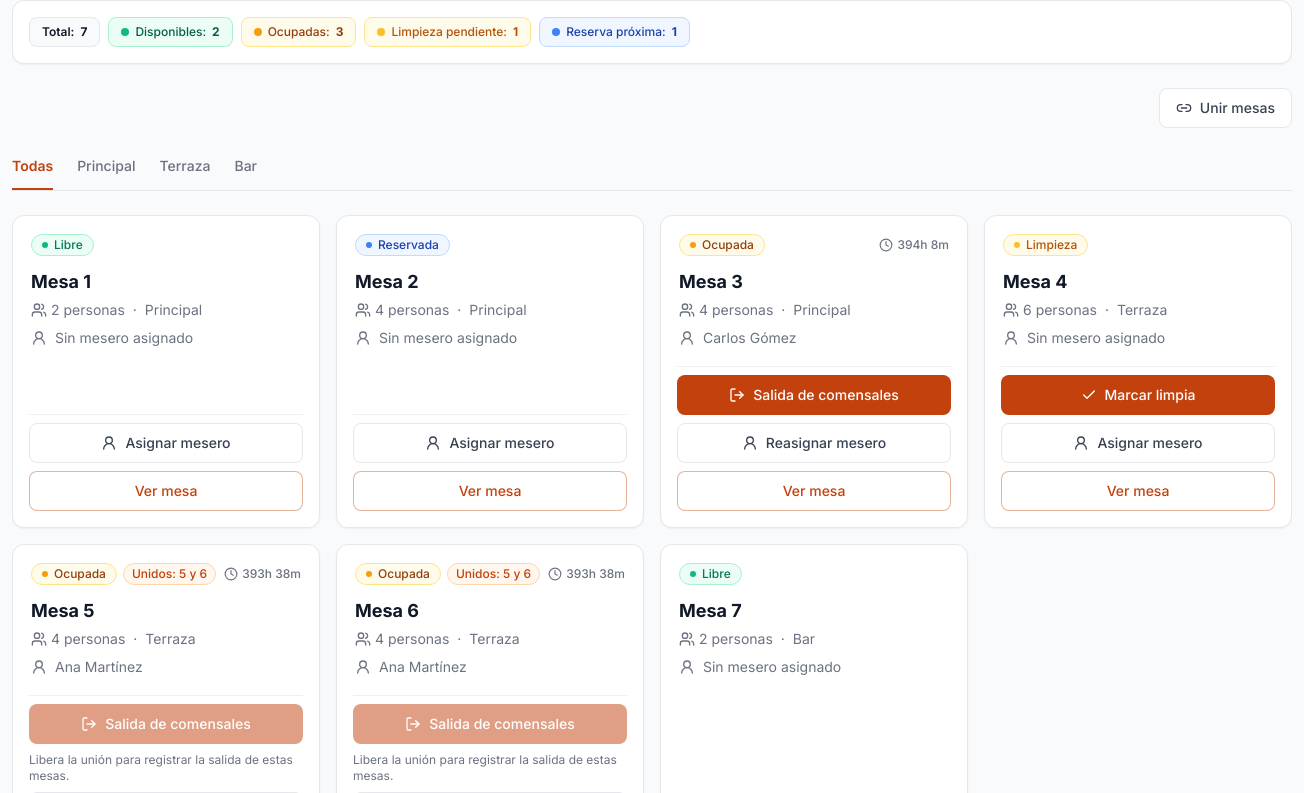
Test: PlanoSalaView Component › filters tables properly when switching zone tabs
Expected: the heading "Mesa 1" is shown, [31, 271, 91, 292]
Expected: the heading "Mesa 4" is shown, [1003, 271, 1068, 292]
// Click Terraza tab
Click the tab "Terraza": x=185, y=171 [160, 152, 210, 190]
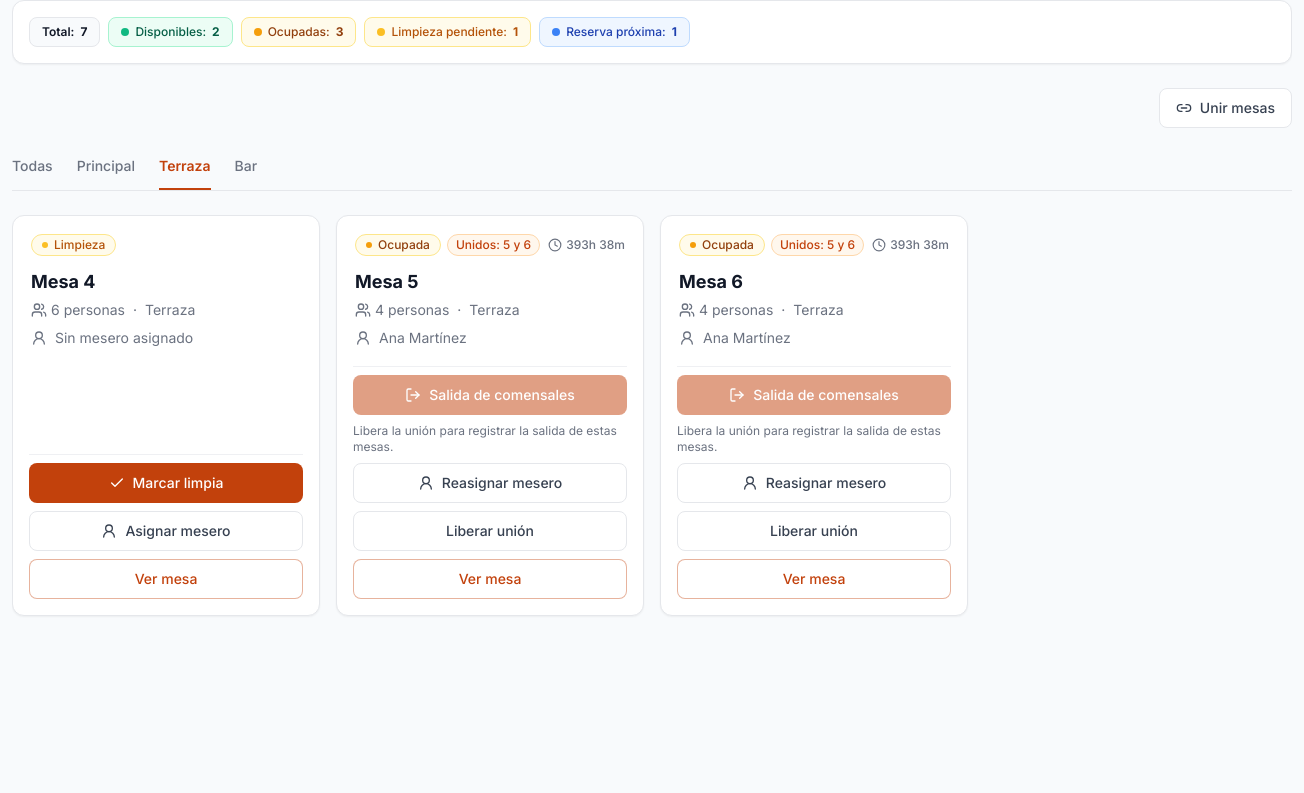
Expected: the heading "Mesa 4" is shown, [31, 271, 96, 292]
Now the button "Mesa 1" is gone
Now the button "Mesa 7" is gone
// Click Bar tab
Click the tab "Bar": x=246, y=171 [235, 152, 257, 190]
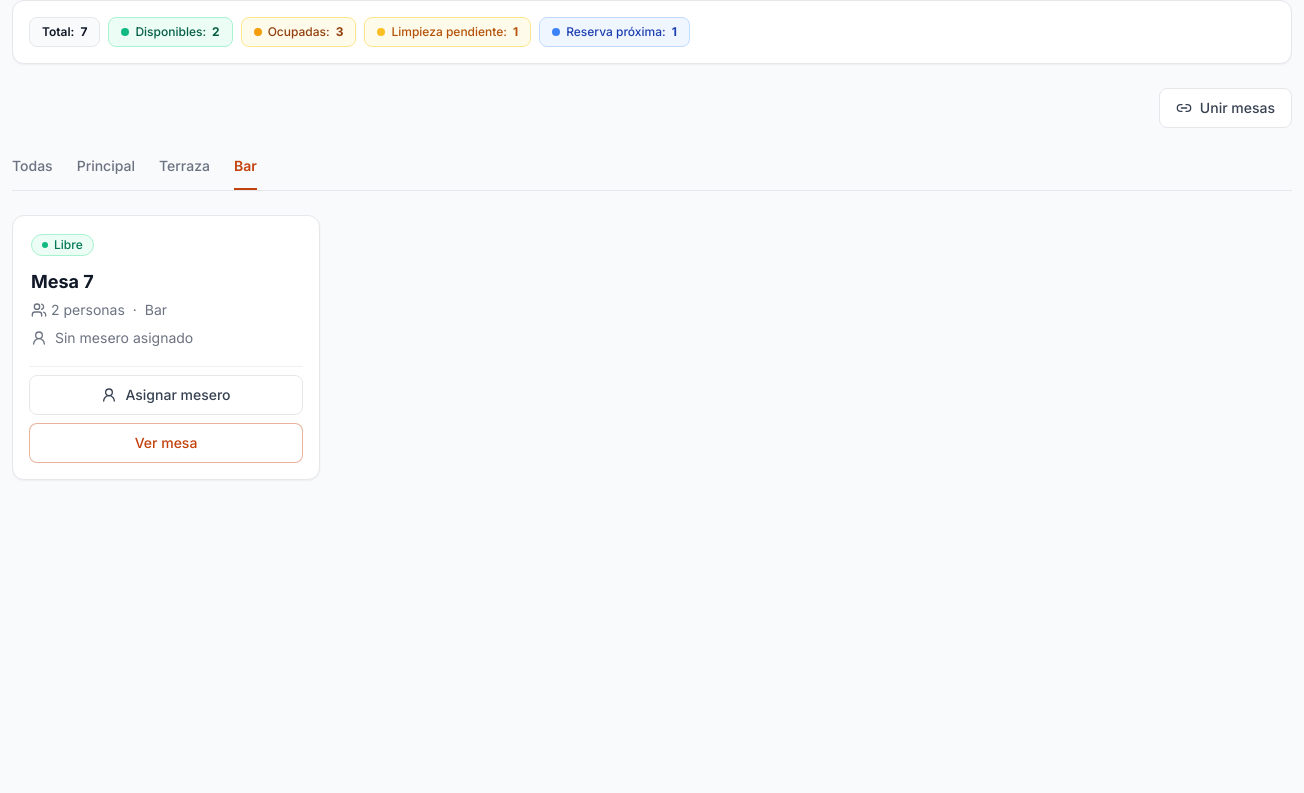
Now the heading "Mesa 7" is shown, box [31, 271, 94, 292]
Now the button "Mesa 4" is gone
// Switch back to Todas
Click the tab "Todas": x=32, y=171 [12, 152, 53, 190]
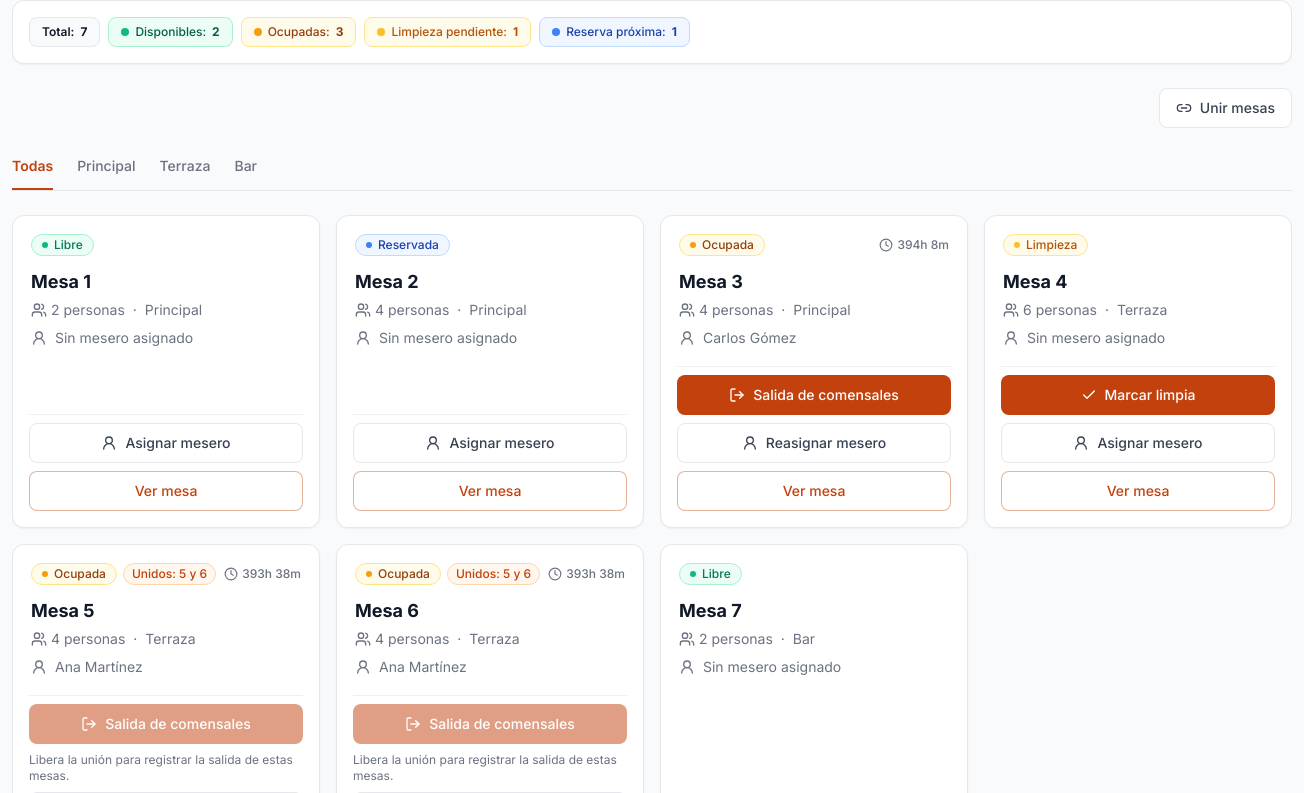
Now the heading "Mesa 1" is shown, box [31, 271, 91, 292]
Now the heading "Mesa 4" is shown, box [1003, 271, 1068, 292]
